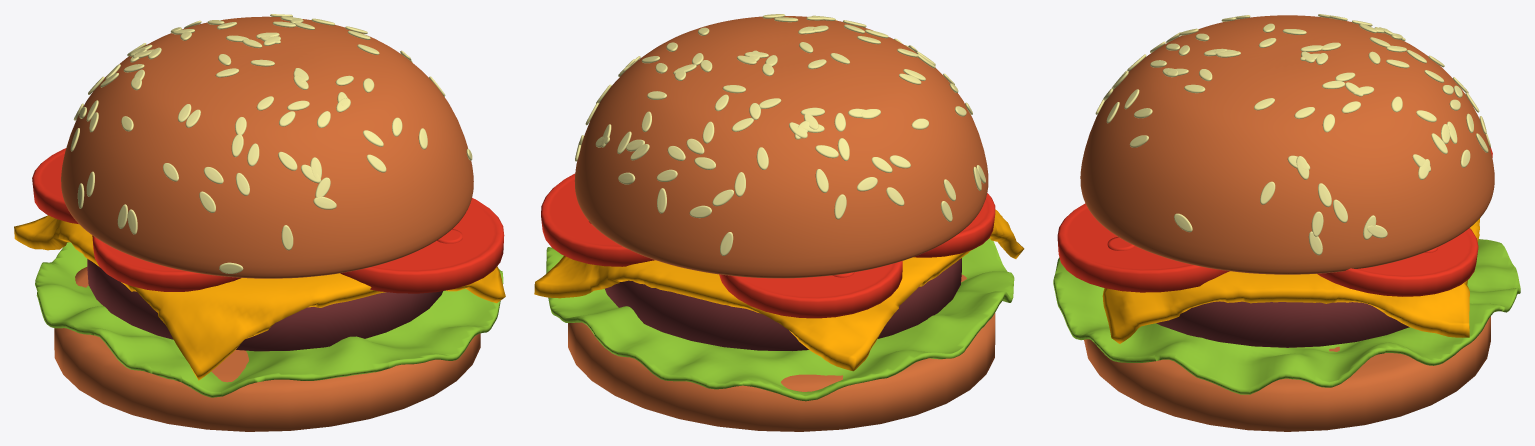
Rendered from Burger - Copy.fbx.
The picture shows the model from 3 angles, left to right: view 1: azimuth 30°, elevation 25°; view 2: azimuth 150°, elevation 25°; view 3: azimuth 270°, elevation 25°; orthographic projection.
Visible parts, largest first — view 1: bred up.001, bred down.001, green .002, Cheese, tomato.004, meat.001; view 2: bred up.001, green .002, bred down.001, tomato.004, Cheese, meat.001; view 3: bred up.001, green .002, bred down.001, tomato.004, Cheese, meat.001.
Part boxes in pixels (bbox=[...]): bred up.001: bbox=[61, 14, 473, 278]; bred down.001: bbox=[54, 267, 480, 431]; green .002: bbox=[35, 242, 503, 397]; Cheese: bbox=[14, 215, 505, 380]; tomato.004: bbox=[32, 148, 504, 293]; meat.001: bbox=[87, 259, 442, 351]; bred up.001: bbox=[574, 14, 988, 278]; green .002: bbox=[546, 238, 1014, 401]; bred down.001: bbox=[568, 274, 995, 431]; tomato.004: bbox=[541, 173, 995, 318]; Cheese: bbox=[534, 209, 1024, 371]; meat.001: bbox=[605, 258, 961, 351]; bred up.001: bbox=[1080, 14, 1494, 274]; green .002: bbox=[1053, 239, 1520, 394]; bred down.001: bbox=[1084, 316, 1490, 431]; tomato.004: bbox=[1057, 147, 1492, 296]; Cheese: bbox=[1102, 218, 1479, 343]; meat.001: bbox=[1156, 301, 1409, 347].
Bounding box in the file's own units: 2.71 × 2.73 × 1.9.
